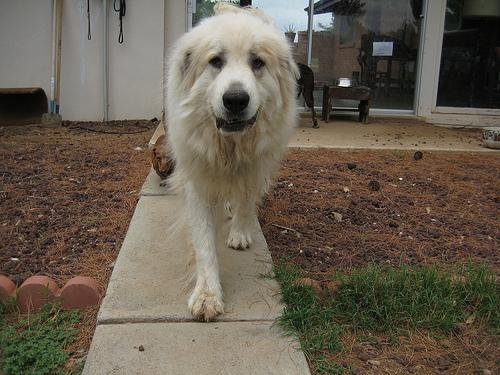Great_Pyrenees: (164, 4, 297, 325)
